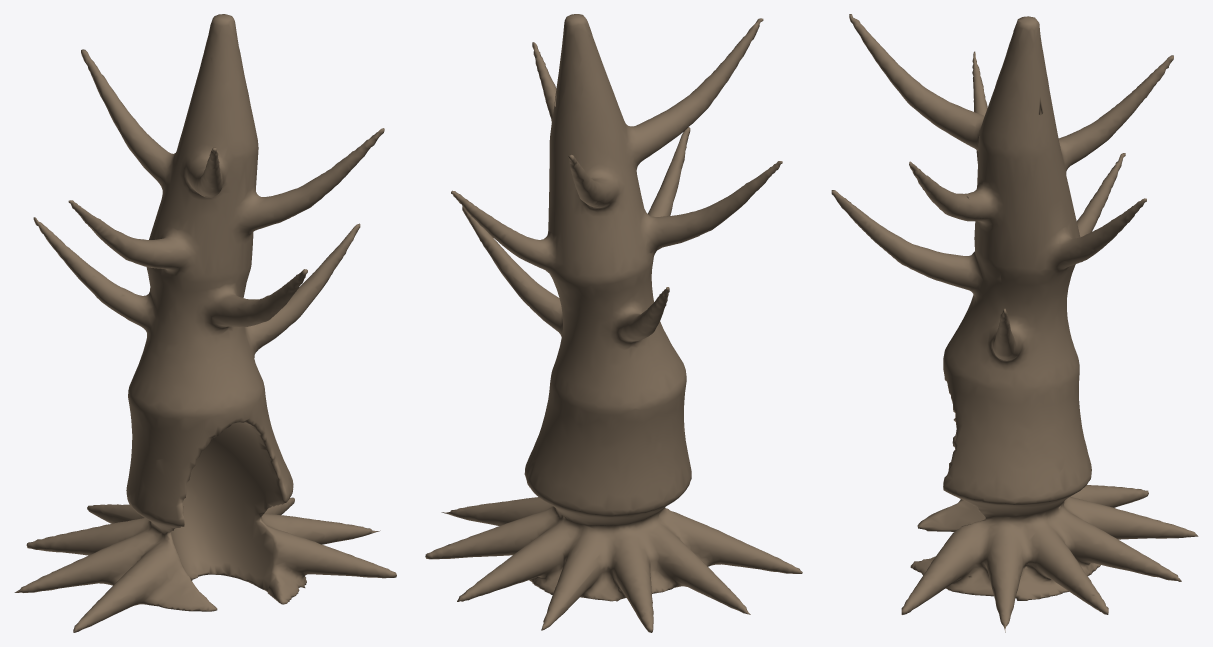
File: hollow.glb
The picture shows the model from 3 angles, left to right: view 1: azimuth 30°, elevation 25°; view 2: azimuth 150°, elevation 25°; view 3: azimuth 270°, elevation 25°; orthographic projection.
Visible parts, largest first — view 1: hollow_bark; view 2: hollow_bark; view 3: hollow_bark.
Boxes of the visible parts, x1,y1,x2,y2 form: hollow_bark: (14,14,396,632); hollow_bark: (425,14,802,632); hollow_bark: (831,14,1198,632).
Size of the model in its own units: 11.88 by 18.52 by 11.12.
